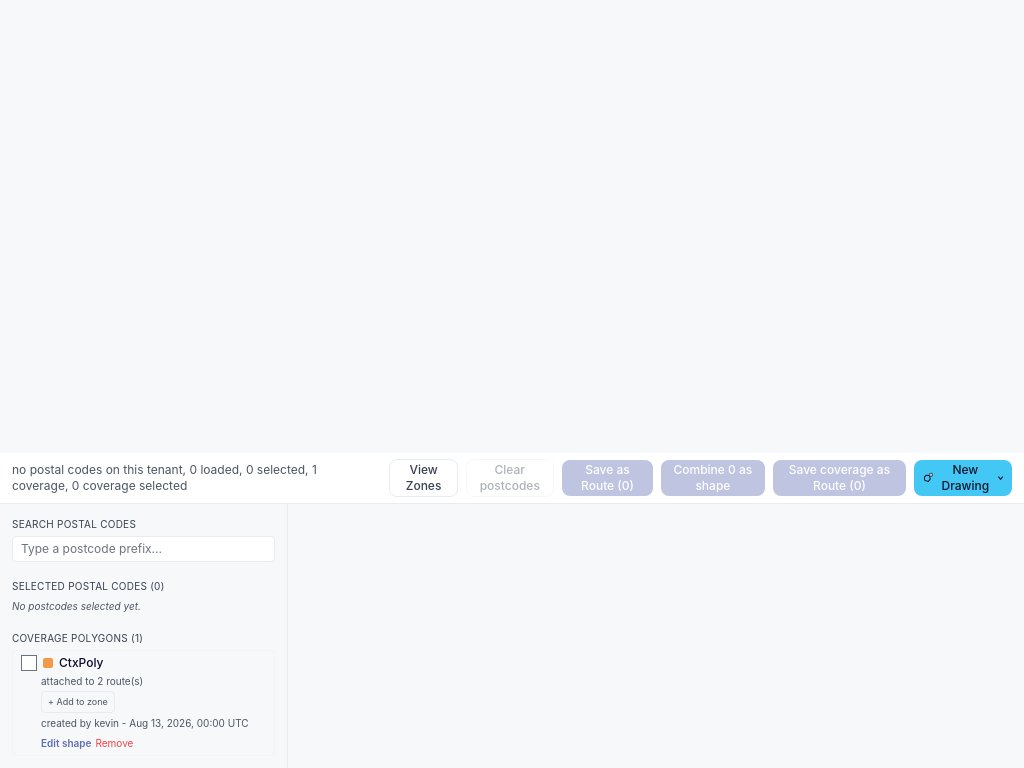
Test case: PolygonBuilder - context menu › confirm dialog for polygon with attached routes includes the warning
(page scrolled)
expect the button "CtxPoly" is shown: met, box [59, 655, 266, 671]
Click the button "Remove" at (114, 743), box [96, 735, 133, 751]
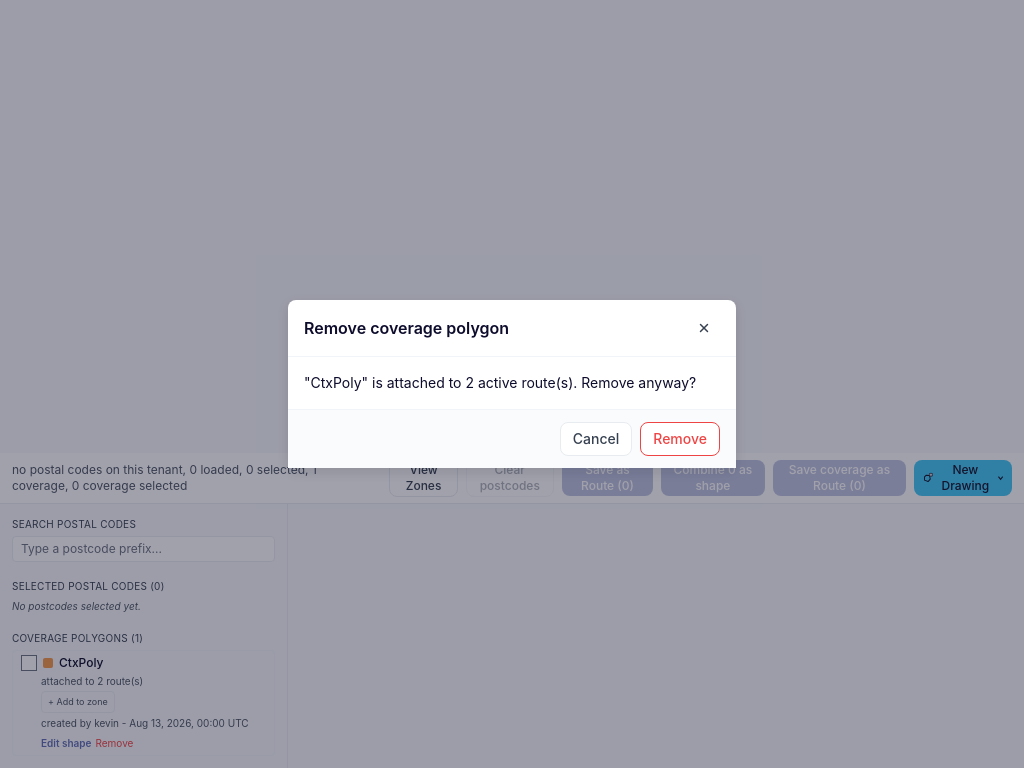
expect the text "attached to 2 active route" is shown: met, box [304, 374, 696, 391]
